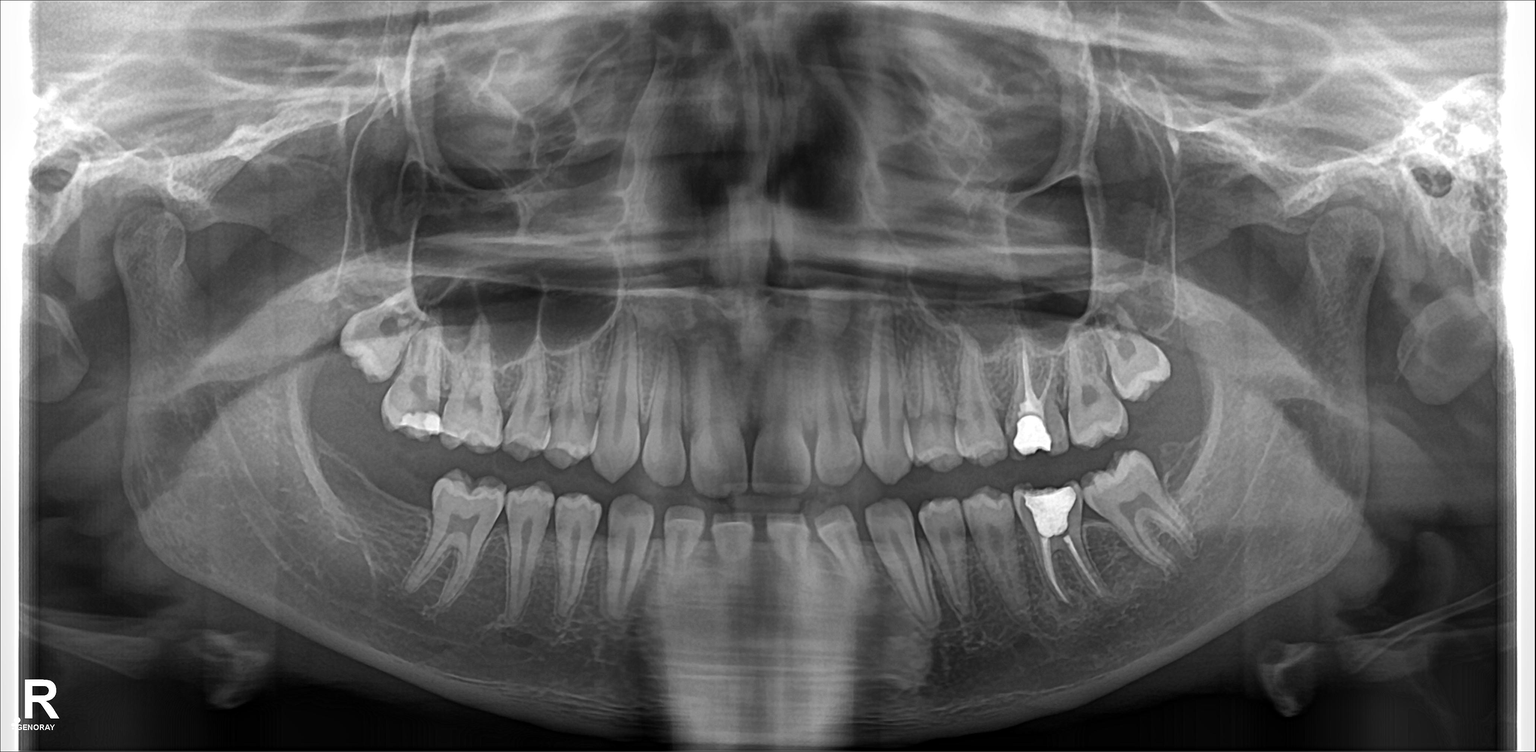Endodontically Treated Tooth: (1011, 486, 1095, 614), (1006, 320, 1061, 454)
Impacted Third Molar: (343, 290, 422, 371)
Missing Tooth: (311, 419, 366, 536), (378, 443, 429, 556), (1162, 426, 1207, 496)
